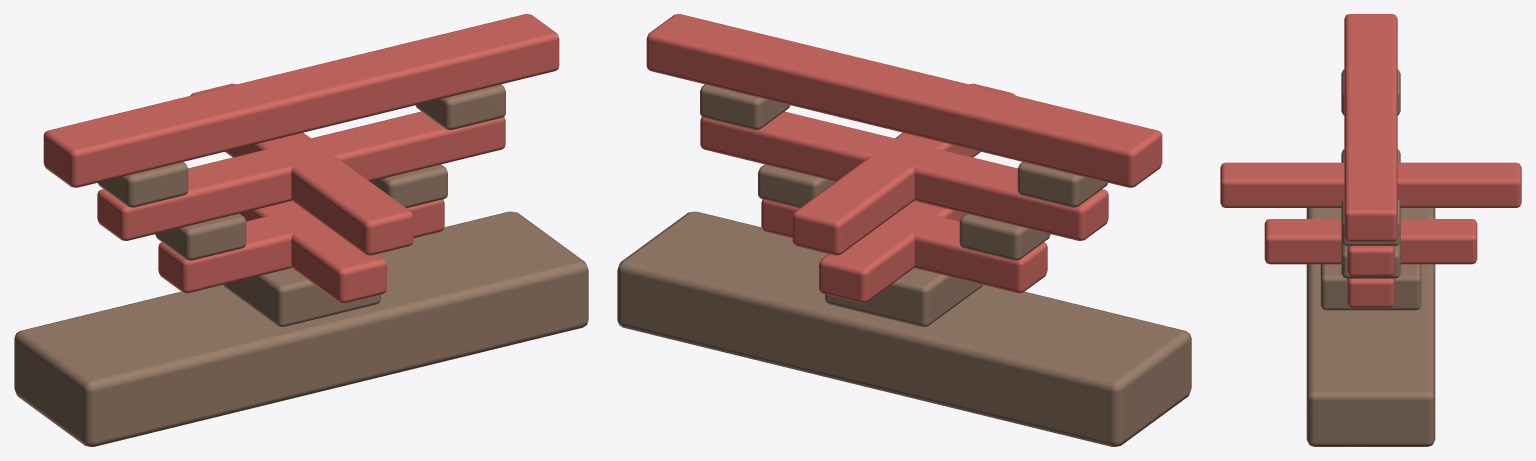
The model's file is imperial-china-palace-and-garden-bracket-set-cluster-16f17a49__36176.glb.
3 renders of one model, left to right at view 1: azimuth 30°, elevation 25°; view 2: azimuth 150°, elevation 25°; view 3: azimuth 270°, elevation 25°, orthographic. The views are drawn at different scales.
Parts seen in each view (by area): view 1: bracket-set-cluster; view 2: bracket-set-cluster; view 3: bracket-set-cluster.
Boxes of the visible parts, x1,y1,x2,y2 form: bracket-set-cluster: (14,14,588,446); bracket-set-cluster: (617,14,1191,446); bracket-set-cluster: (1220,14,1521,446).
Size of the model in its own units: 1.9 by 1.01 by 1.17.
